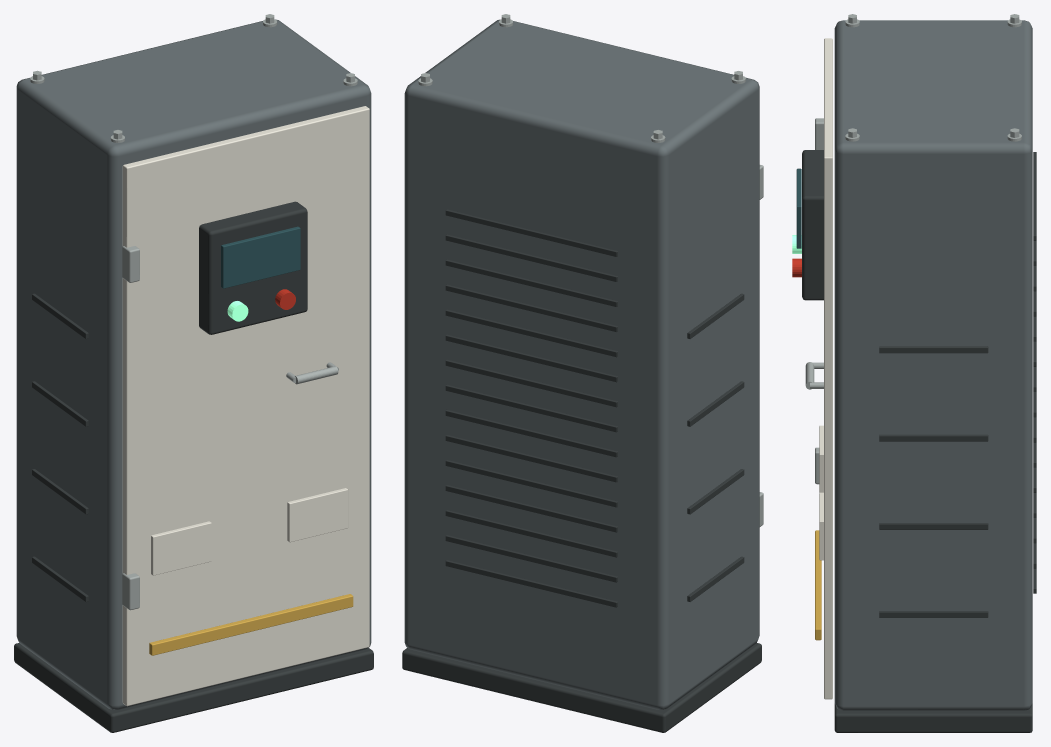
File: automated-parking-and-vehicle-retrieval-automated-park-7f0759ca__30376.glb
3 views of the same model, side by side, from view 1: azimuth 30°, elevation 25°; view 2: azimuth 150°, elevation 25°; view 3: azimuth 270°, elevation 25° (orthographic).
Parts seen in each view (by area): view 1: automated-parking-and-vehicle-retrieval-control-cabinet; view 2: automated-parking-and-vehicle-retrieval-control-cabinet; view 3: automated-parking-and-vehicle-retrieval-control-cabinet.
Part boxes in pixels (x1,y1,x2,y2): automated-parking-and-vehicle-retrieval-control-cabinet: [14, 14, 373, 732]; automated-parking-and-vehicle-retrieval-control-cabinet: [402, 14, 763, 732]; automated-parking-and-vehicle-retrieval-control-cabinet: [792, 14, 1036, 732].
Size of the model in its own units: 0.872 by 1.83 by 0.6775.
